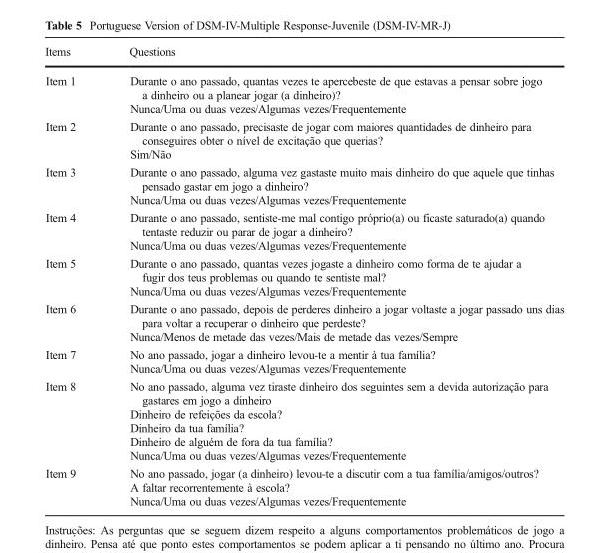table: (44, 44, 563, 506)
table column: (101, 44, 563, 506), (44, 44, 101, 506)
table column header: (44, 44, 563, 65)
table row: (44, 376, 563, 463), (44, 65, 563, 116), (44, 116, 563, 162), (44, 162, 563, 208), (44, 253, 563, 299), (44, 208, 563, 253), (44, 299, 563, 344), (44, 463, 563, 506), (44, 344, 563, 376), (44, 44, 563, 65)
